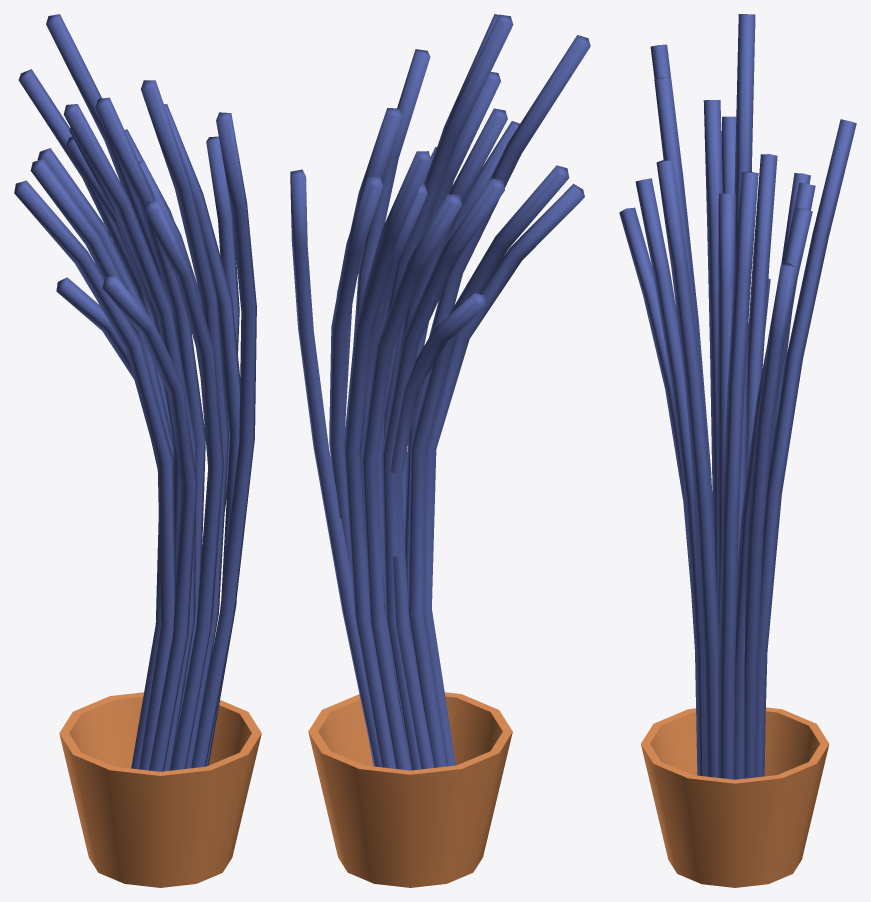
The model's file is PLANT.fbx.
3 views of the same model, side by side, from view 1: azimuth 30°, elevation 25°; view 2: azimuth 150°, elevation 25°; view 3: azimuth 270°, elevation 25° (orthographic). The views are drawn at different scales.
Parts seen in each view (by area): view 1: SeaPlamt; view 2: SeaPlamt; view 3: SeaPlamt.
Part boxes in pixels (x1,y1,x2,y2): SeaPlamt: (14, 14, 261, 887); SeaPlamt: (290, 14, 590, 887); SeaPlamt: (619, 14, 856, 887).
Size of the model in its own units: 2.41 by 8.05 by 2.16.
